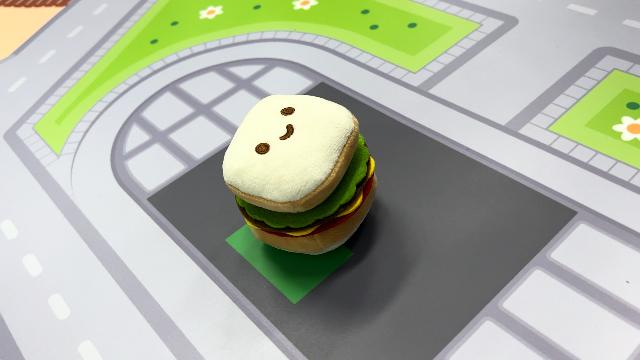sandwich: (220, 90, 380, 256)
